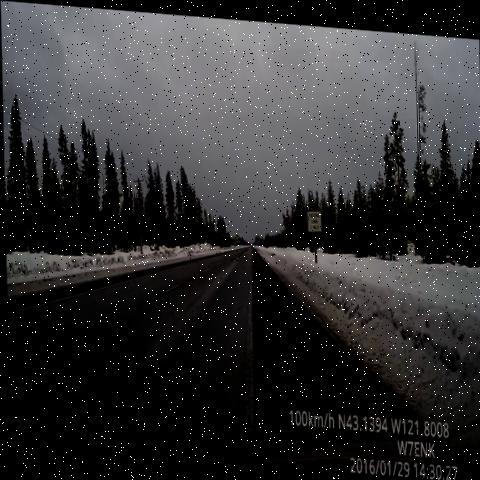pothole: (6, 336, 107, 444), (155, 266, 195, 303), (229, 239, 253, 267)
